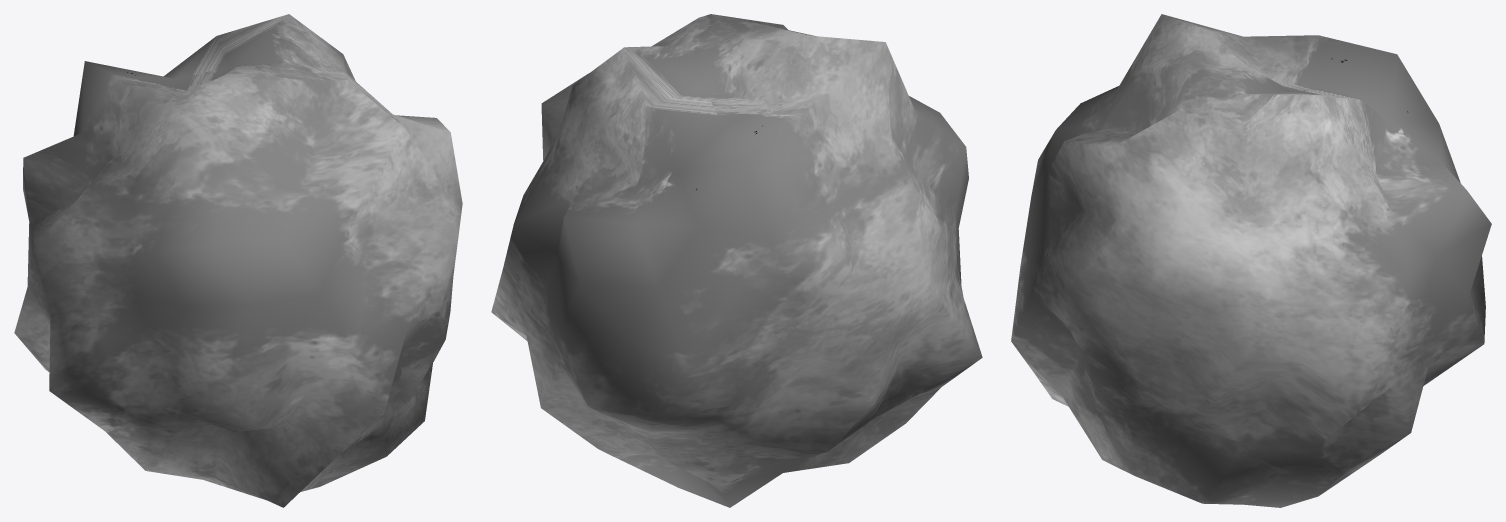
File: model_PyroclasticSurgeBall.fbx
3 views of the same model, side by side, from view 1: azimuth 30°, elevation 25°; view 2: azimuth 150°, elevation 25°; view 3: azimuth 270°, elevation 25° (orthographic). The views are drawn at different scales.
Visible parts, largest first — view 1: mesh_PyroBall; view 2: mesh_PyroBall; view 3: mesh_PyroBall.
Boxes of the visible parts, x1,y1,x2,y2 form: mesh_PyroBall: [14, 14, 462, 507]; mesh_PyroBall: [491, 14, 982, 507]; mesh_PyroBall: [1011, 14, 1491, 507].
Size of the model in its own units: 2.13 by 2.15 by 2.16.
Materials: 1 (1 with a texture image).
